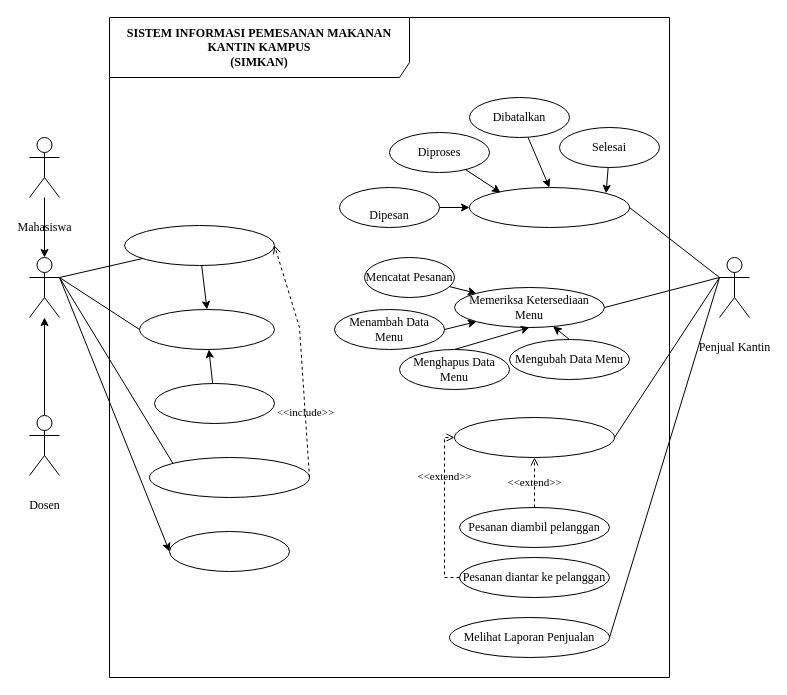
This 787x695 diagram has some shape labels left out. Each missing label, with the centre of its shape:
Bayar Pesanan: the point at 229,551
Lihat Statuus Pesanan: the point at 549,207
Melhat Daftar Menu: the point at 206,329
Melihat Harga: the point at 214,403
Melihat Ketersediaan menu: the point at 199,245
Pelanggan: the point at 44,287
Pesan Menu yang tersedia: the point at 229,477
Proses Menyimpan Pesanan: the point at 534,437
